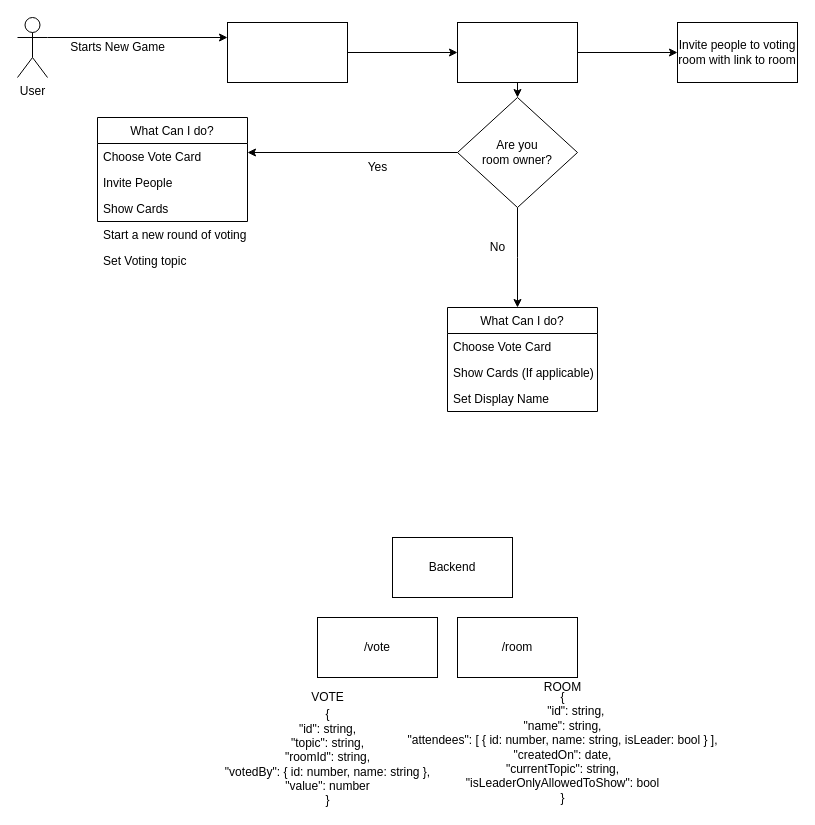
Image size: 815x825. Some labels were removed from this diagram. The shapes that lost their labels are listed below. From the top down, each one's centre as x and y in pixels, then its label:
At pixel 287 52: "Fill in: Your Name, Room name, Who Can Show Cards".
At pixel 517 52: "Voting Room".
